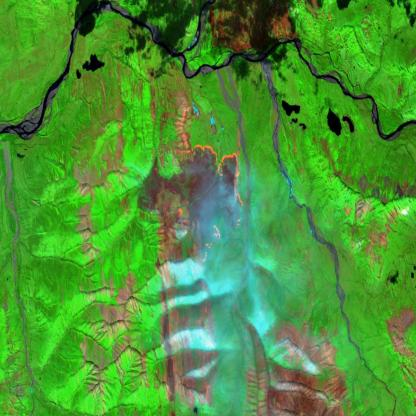fire: (183, 132, 250, 270)
